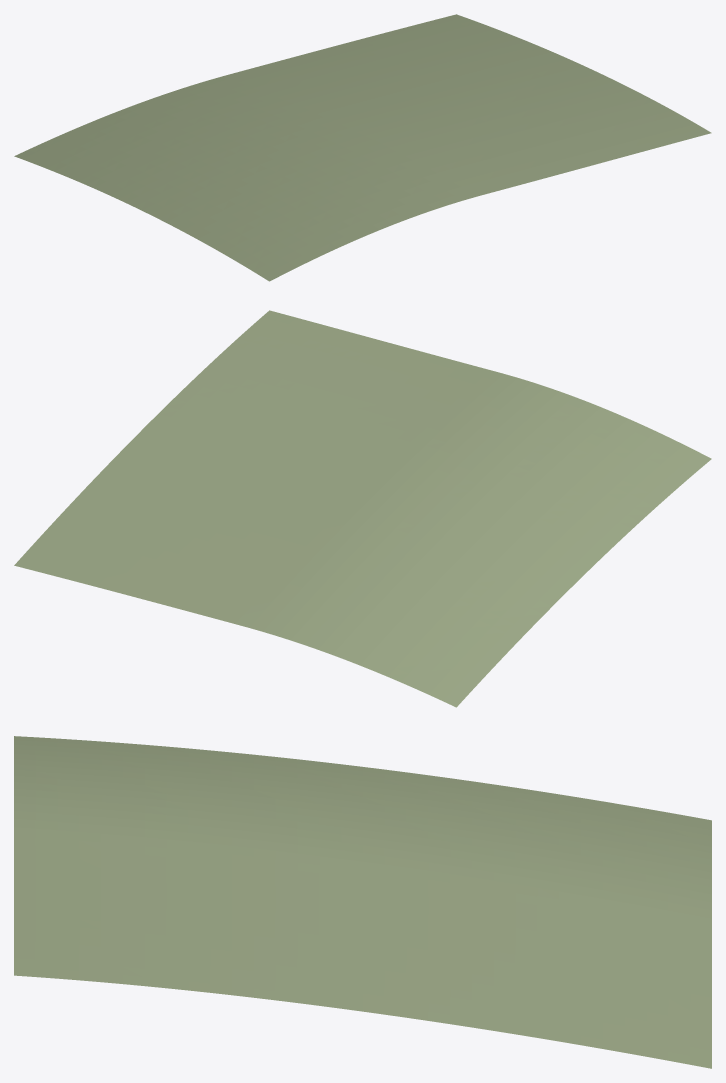
The model's file is expanse-26-6.glb.
3 renders of one model, top to bottom at view 1: azimuth 30°, elevation 25°; view 2: azimuth 150°, elevation 25°; view 3: azimuth 270°, elevation 25°, orthographic. The views are drawn at different scales.
Parts seen in each view (by area): view 1: expanse-26-6; view 2: expanse-26-6; view 3: expanse-26-6.
Boxes of the visible parts, x1,y1,x2,y2 form: expanse-26-6: [14, 14, 711, 281]; expanse-26-6: [14, 310, 711, 707]; expanse-26-6: [14, 736, 711, 1068].
Size of the model in its own units: 256 by 56.55 by 256.
